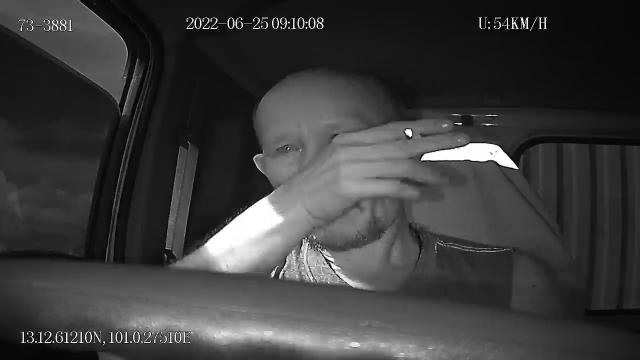Cigarette: (403, 126, 423, 140)
